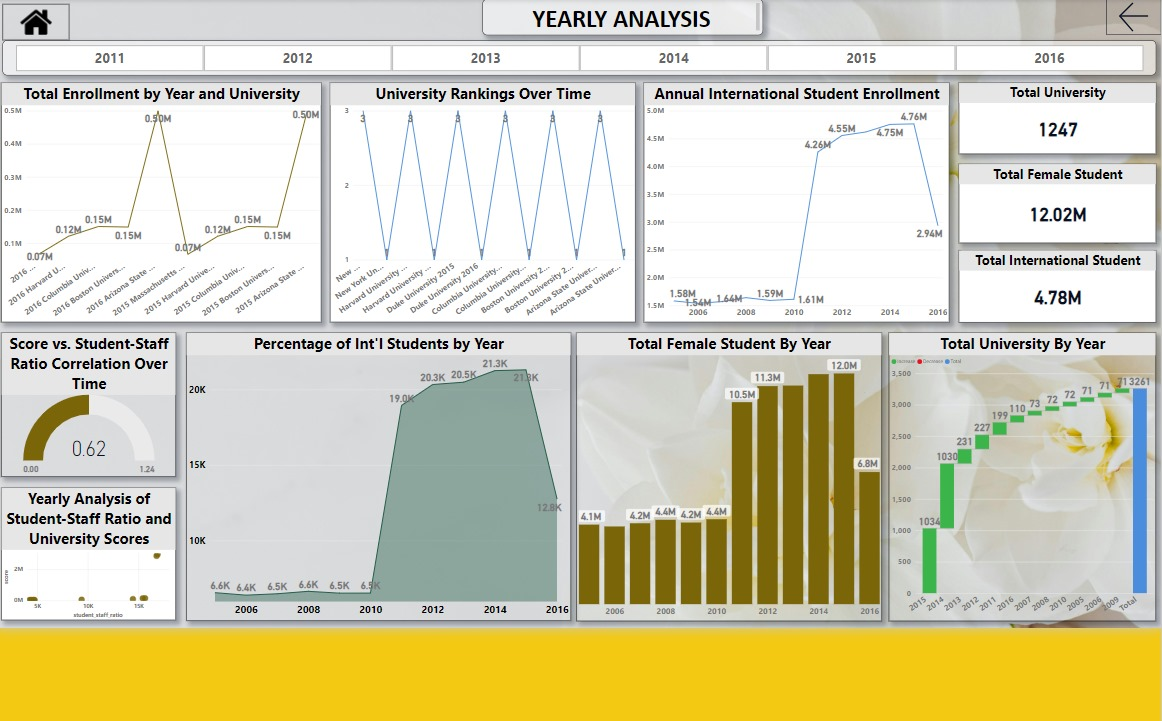

The page's visual inventory and layout, read from the dashboard file:
{"tool":"powerbi","page":{"name":"Yearly Analysis","canvas":[2500,1350],"ordinal":3},"visuals":[{"type":"image","box":[15.9,11.4,143.1,77.2],"z":0},{"type":"lineChart","title":"Total Enrollment by Year and University","fields":{"Category":["university_ranking_year.year","university.university_name"],"Y":["Sum(university_year.num_students)"]},"box":[14.1,180.7,686.1,513.9],"z":1000},{"type":"gauge","title":"Score vs. Student-Staff Ratio Correlation Over Time","fields":{"Y":["country.score and student_staff_ratio correlation for year"]},"box":[13.6,715.4,374.7,308.9],"z":2000},{"type":"scatterChart","title":"Yearly Analysis of Student-Staff Ratio and University Scores","fields":{"Category":["university_ranking_year.year"],"X":["Sum(university_year.student_staff_ratio)"],"Y":["Sum(university_ranking_year.score)"]},"box":[13.6,1049.2,374.7,283.9],"z":3000},{"type":"areaChart","title":"Percentage of Int''l Students by Year","fields":{"Category":["university_ranking_year.year"],"Y":["Sum(university_year.pct_international_students)"]},"box":[408.8,715.4,824.4,617.7],"z":4000},{"type":"actionButton","box":[2382.4,0,118.1,77.2],"z":5000},{"type":"textbox","box":[1044.7,0,601.8,77.2],"z":6000},{"type":"lineChart","title":"University Rankings Over Time","fields":{"Category":["university.university_name","university_ranking_year.year"],"Y":["CountNonNull(ranking_system.id)"]},"box":[717.2,180.7,655.1,513.9],"z":7000},{"type":"lineChart","title":"Annual International Student Enrollment","fields":{"Category":["university_ranking_year.year"],"Y":["Sum(university_year.Total_Int_Student)"]},"box":[1392,180.7,655.1,513.9],"z":8000},{"type":"lineClusteredColumnComboChart","title":"Total Female Student By Year","fields":{"Category":["university_ranking_year.year"],"Y":["Sum(university_year.Total_female_student)"]},"box":[1245.2,714.4,655.1,618.4],"z":9000},{"type":"waterfallChart","title":"Total University By Year","fields":{"Category":["university_ranking_year.year"],"Y":["CountNonNull(university.university_name)"]},"box":[1917.2,714.4,573.2,618.4],"z":10000},{"type":"card","title":"Total University","fields":{"Values":["Count(university.university_name)"]},"box":[2066.8,180.7,423.5,152.5],"z":11000},{"type":"card","title":"Total Female Student","fields":{"Values":["Sum(university_year.Total_female_student)"]},"box":[2066.8,352.9,423.5,169.4],"z":12000},{"type":"card","title":"Total International Student","fields":{"Values":["Sum(university_year.Total_Int_Student)"]},"box":[2066.8,539.3,423.5,155.3],"z":13000},{"type":"slicer","title":"Select Year","fields":{"Values":["university_year.year"]},"box":[15.9,88.6,2473.2,74.9],"z":14000}]}

Visuals, with their boxes on the page's 2500x1350 design canvas (x1, y1, x2, y2). These are canvas units, not pixel positions in the 1162x721 screenshot, which may show the page scaled, cropped or inside an application window:
image: box=[16, 11, 159, 89]
"Total Enrollment by Year and University" lineChart: box=[14, 181, 700, 695]
"Score vs. Student-Staff Ratio Correlation Over Time" gauge: box=[14, 715, 388, 1024]
"Yearly Analysis of Student-Staff Ratio and University Scores" scatterChart: box=[14, 1049, 388, 1333]
"Percentage of Int''l Students by Year" areaChart: box=[409, 715, 1233, 1333]
actionButton: box=[2382, 0, 2500, 77]
textbox: box=[1045, 0, 1646, 77]
"University Rankings Over Time" lineChart: box=[717, 181, 1372, 695]
"Annual International Student Enrollment" lineChart: box=[1392, 181, 2047, 695]
"Total Female Student By Year" lineClusteredColumnComboChart: box=[1245, 714, 1900, 1333]
"Total University By Year" waterfallChart: box=[1917, 714, 2490, 1333]
"Total University" card: box=[2067, 181, 2490, 333]
"Total Female Student" card: box=[2067, 353, 2490, 522]
"Total International Student" card: box=[2067, 539, 2490, 695]
"Select Year" slicer: box=[16, 89, 2489, 164]
